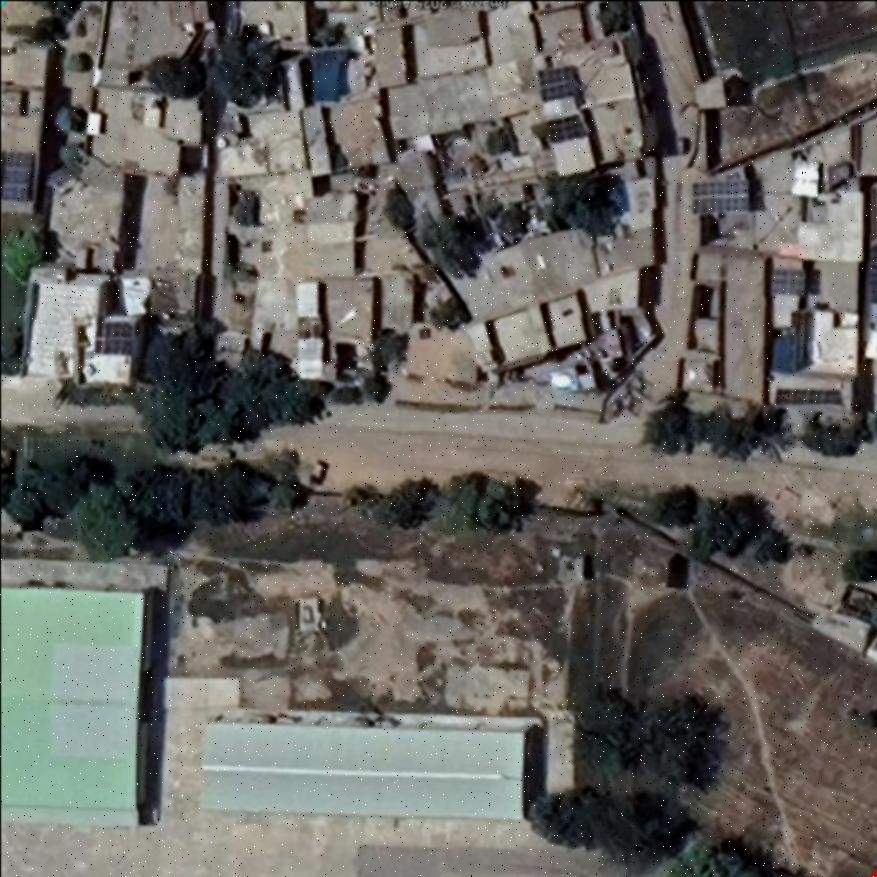Solarpanel: (691, 180, 749, 214), (536, 66, 579, 105), (1, 154, 33, 199), (544, 112, 585, 145), (92, 324, 129, 355), (765, 269, 803, 296), (868, 244, 877, 298)
